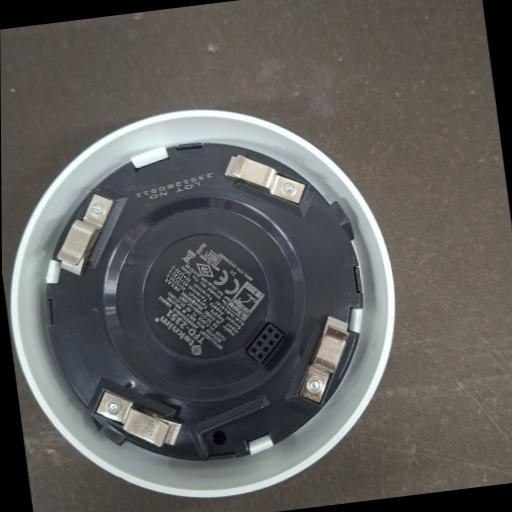yayli: (57, 194, 114, 275), (97, 392, 182, 446), (300, 316, 350, 403), (225, 155, 306, 204)
